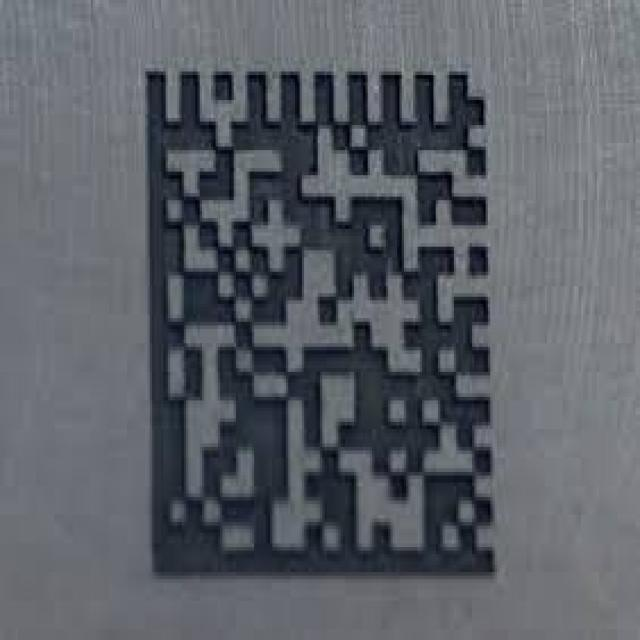DataMatrix: (125, 43, 513, 612)
